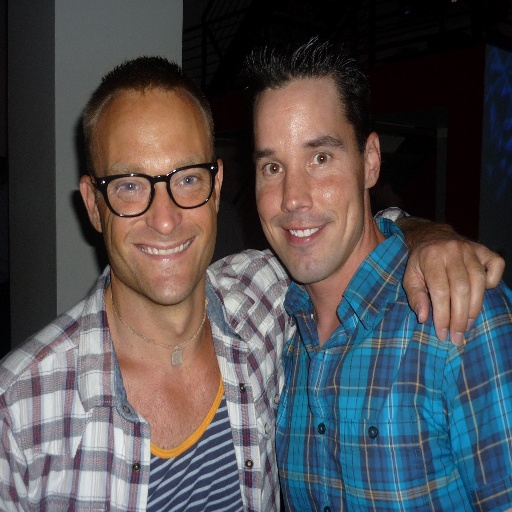hand: (398, 223, 499, 352)
